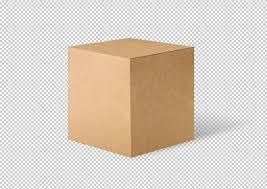box: (66, 37, 194, 157)
